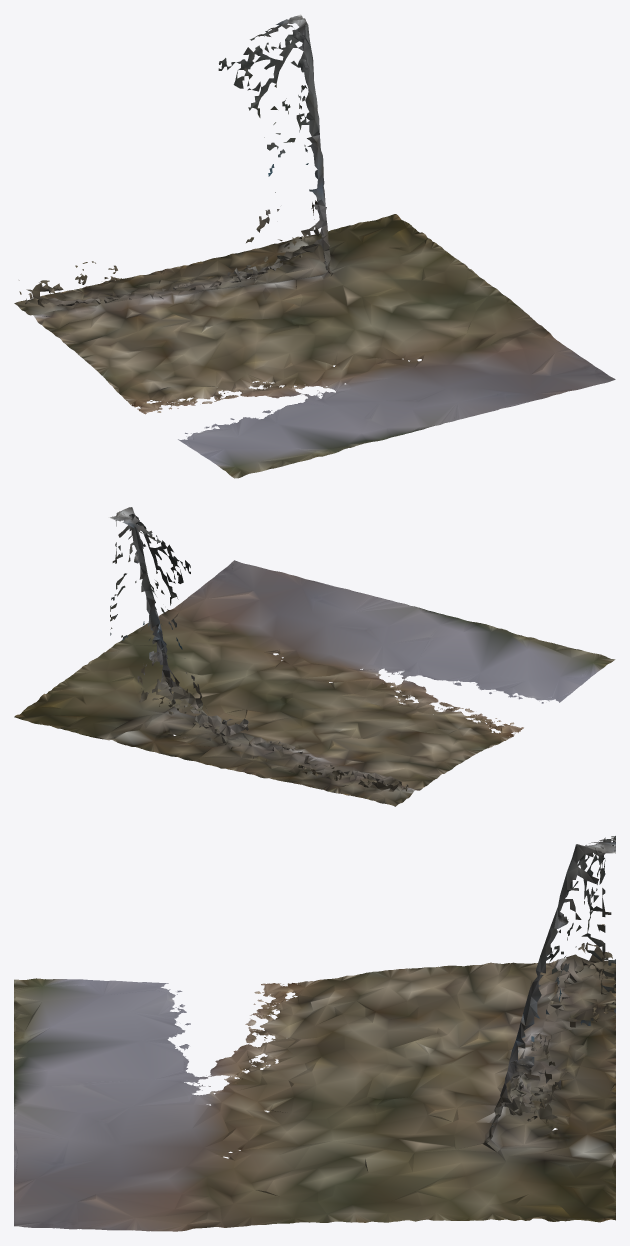
Rendered from coarse.glb.
The picture shows the model from 3 angles, top to bottom: view 1: azimuth 30°, elevation 25°; view 2: azimuth 150°, elevation 25°; view 3: azimuth 270°, elevation 25°; orthographic projection. The views are drawn at different scales.
Bounding box in the file's own units: 3.6 × 2.14 × 3.6.
